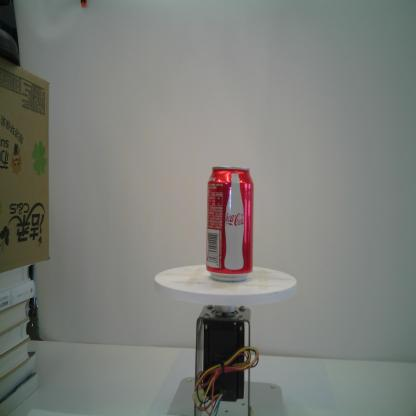Drink: (206, 166, 254, 282)
